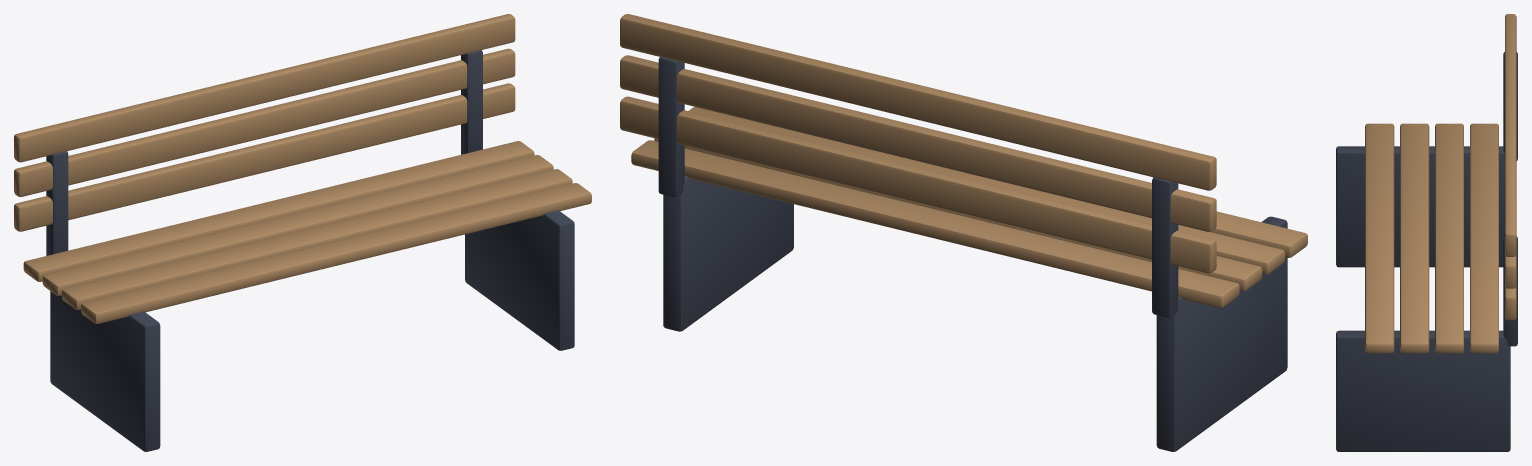
File: banco_praca.glb
3 views of the same model, side by side, from view 1: azimuth 30°, elevation 25°; view 2: azimuth 150°, elevation 25°; view 3: azimuth 270°, elevation 25° (orthographic). The views are drawn at different scales.
Parts seen in each view (by area): view 1: Cube; view 2: Cube; view 3: Cube.
Boxes of the visible parts, left/top/right/bottom form: Cube: left=14, top=14, right=591, bottom=451; Cube: left=620, top=14, right=1307, bottom=451; Cube: left=1336, top=14, right=1517, bottom=451.
Bounding box in the file's own units: 1.8 × 0.885 × 0.625.
